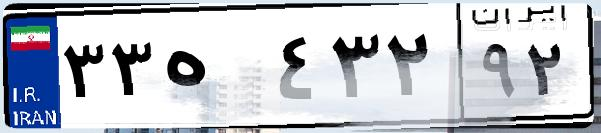2: (385, 28, 445, 110), (525, 38, 570, 115)
3: (330, 28, 385, 110), (57, 26, 110, 100), (110, 28, 158, 98)
4: (270, 28, 330, 110)
9: (475, 38, 525, 113)
ه: (158, 20, 270, 120)
